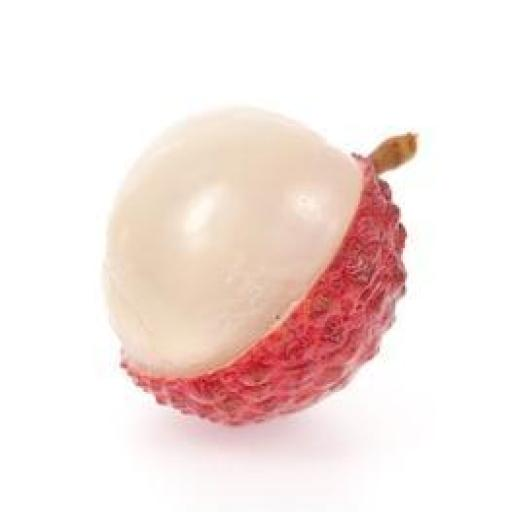lychee: (106, 109, 414, 423)
